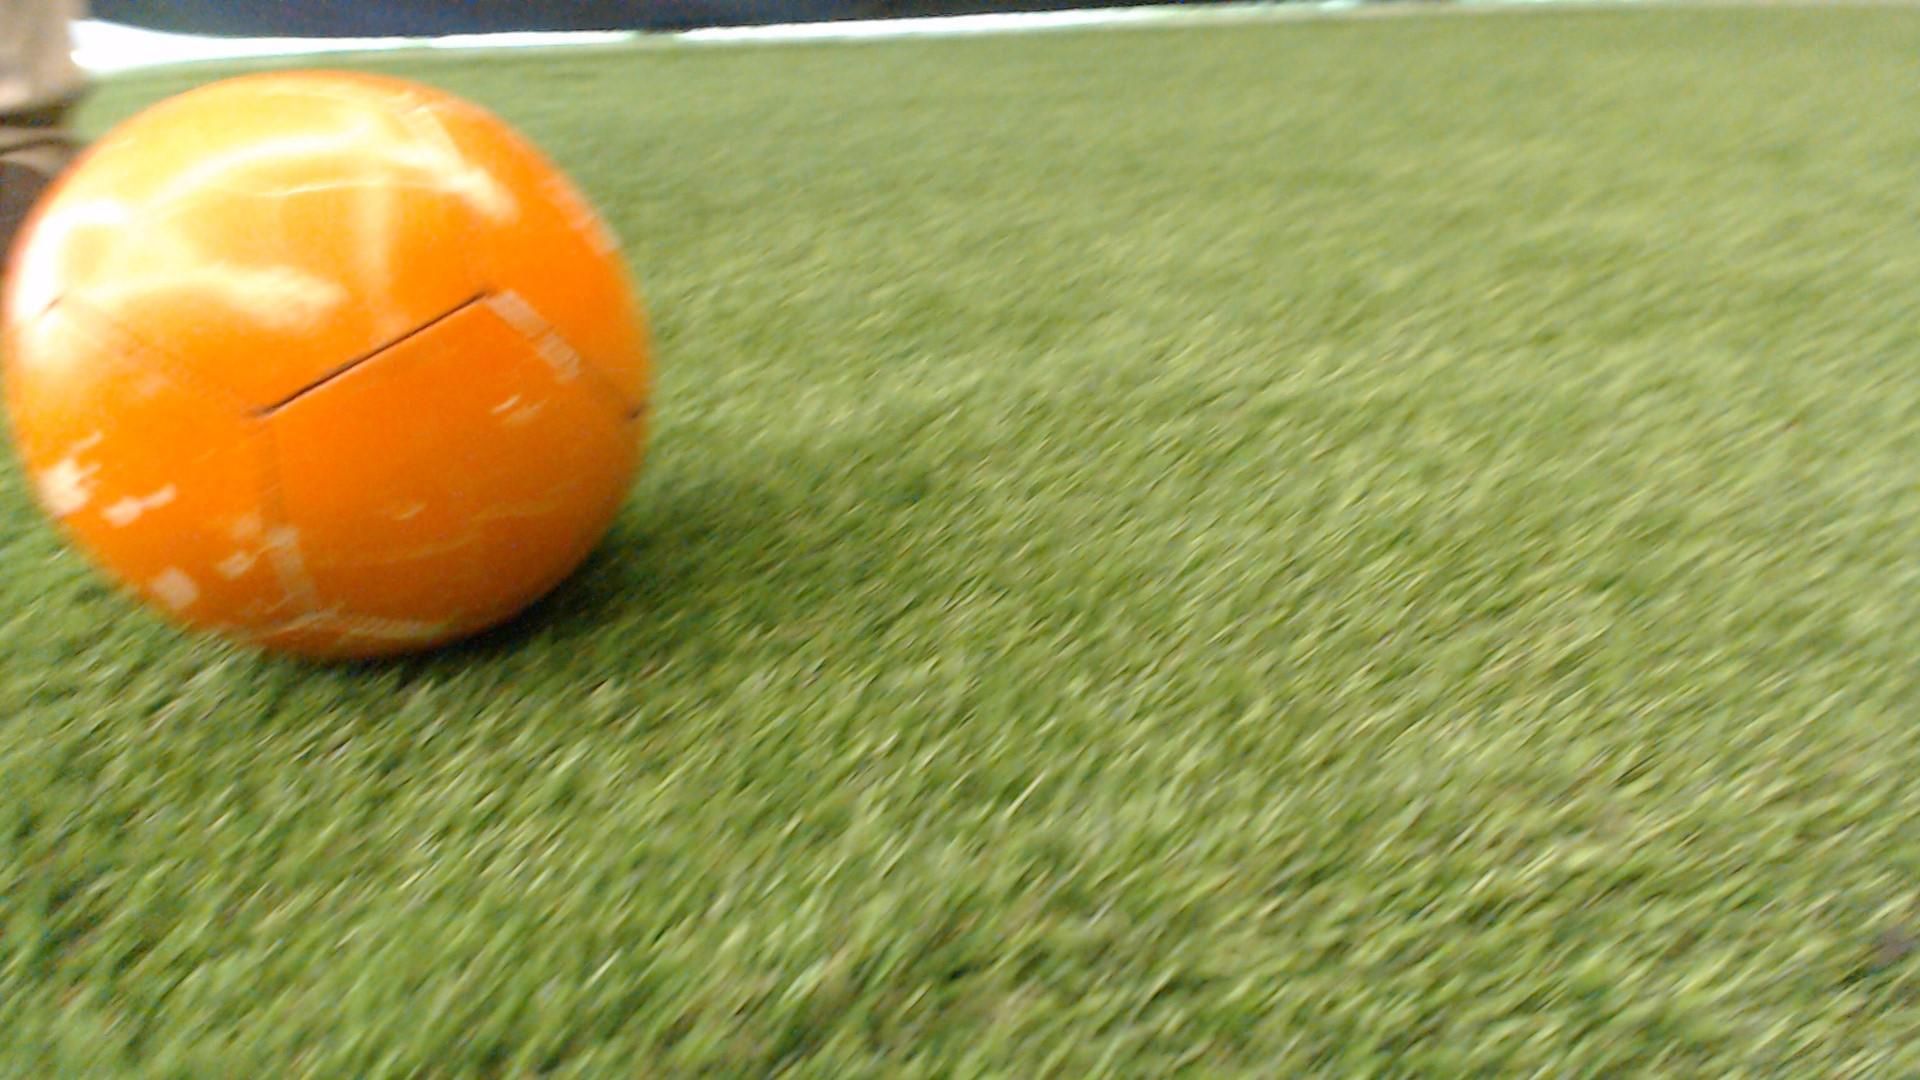bola: (0, 46, 676, 673)
